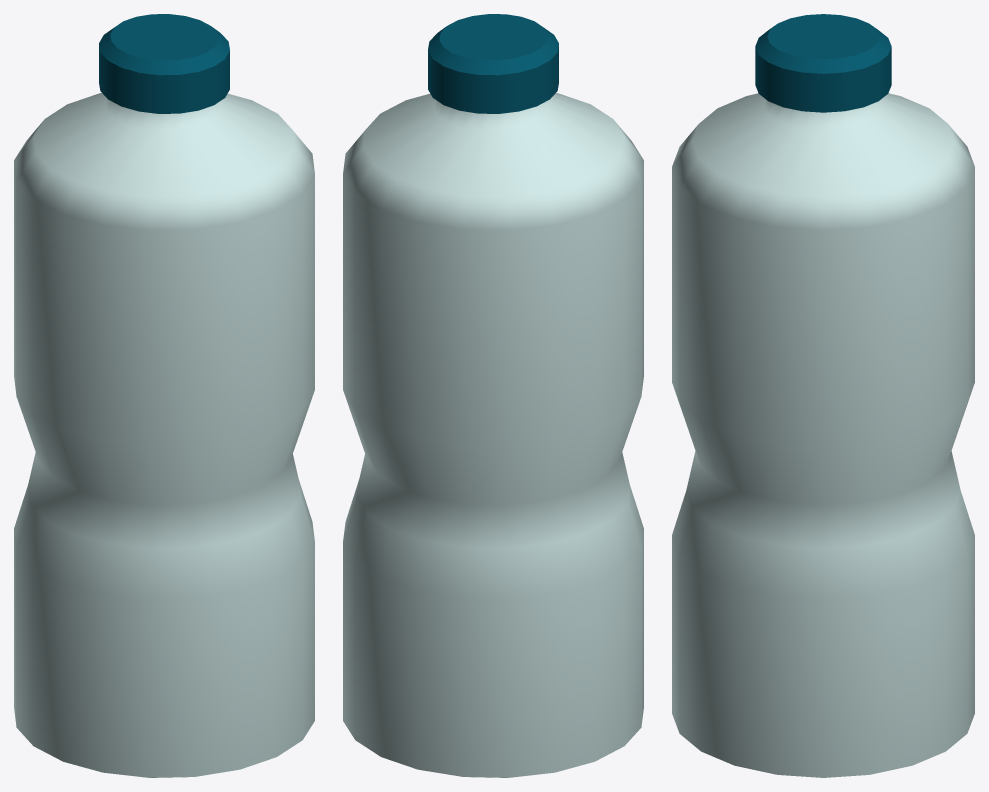
The model's file is SM_Bottle_01.fbx.
3 renders of one model, left to right at view 1: azimuth 30°, elevation 25°; view 2: azimuth 150°, elevation 25°; view 3: azimuth 270°, elevation 25°, orthographic.
Parts seen in each view (by area): view 1: SM_Bottle_01; view 2: SM_Bottle_01; view 3: SM_Bottle_01.
Boxes of the visible parts, <box> form: SM_Bottle_01: <box>14,14,314,777</box>; SM_Bottle_01: <box>343,14,643,777</box>; SM_Bottle_01: <box>672,14,974,777</box>.
Size of the model in its own units: 8.09 by 20.2 by 8.09.
